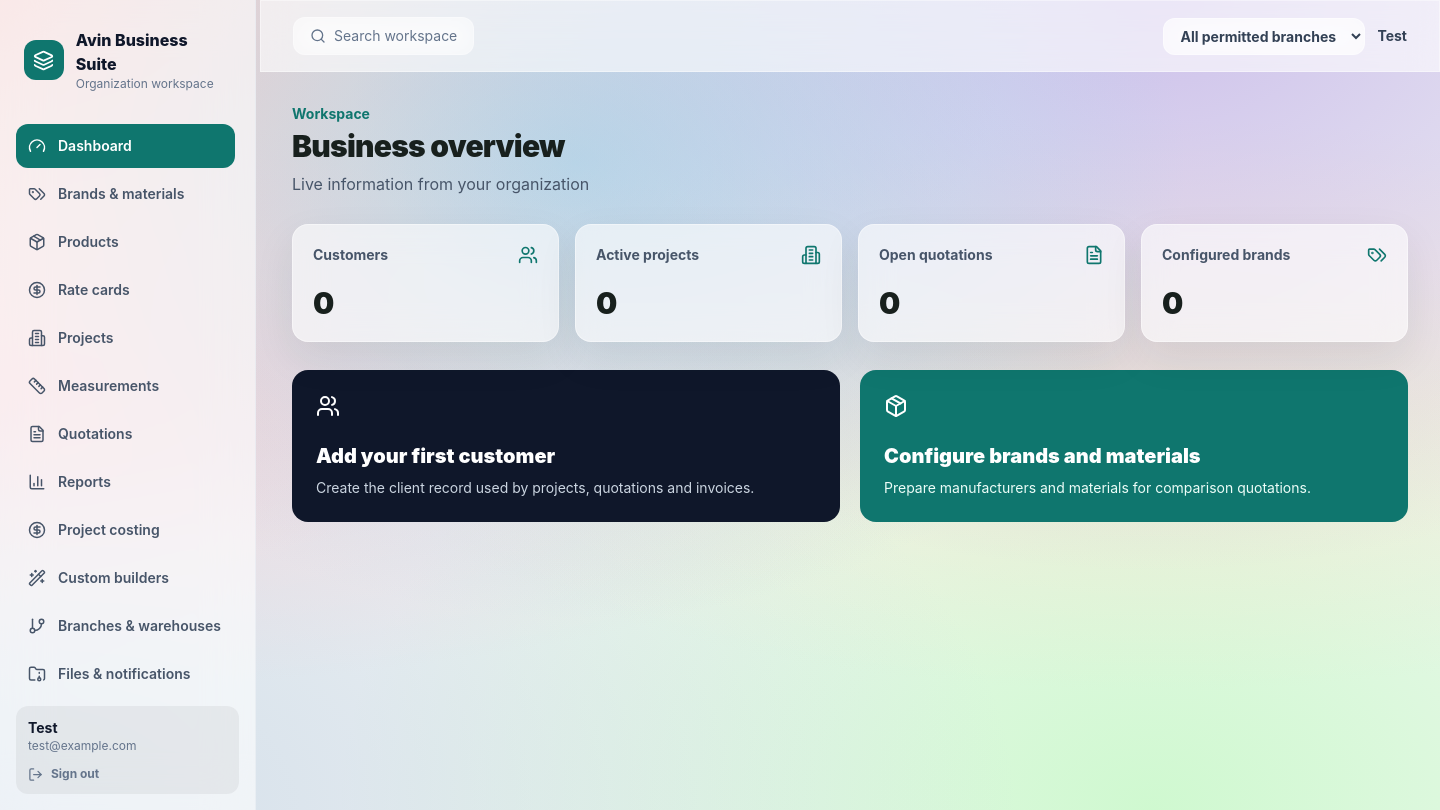
it: workspace save flows › adds a product, closes the form, refreshes the list and confirms success
The image size is (1440, 810).
Click the button "Products" at (126, 242), box [16,220,235,264]
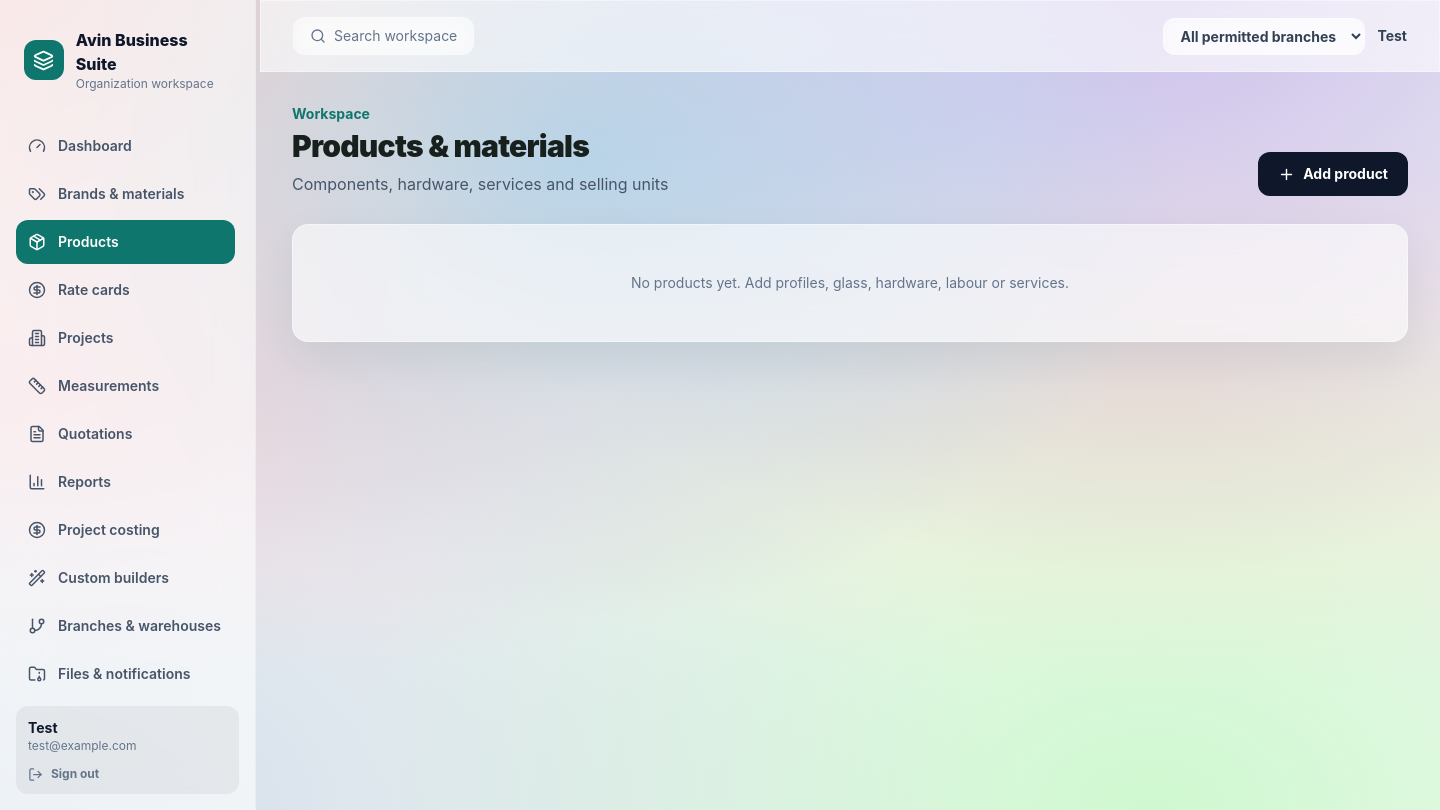
Expected: the button "Add product" is shown
Click the button "Add product" at (1333, 174), box [1258,152,1408,196]
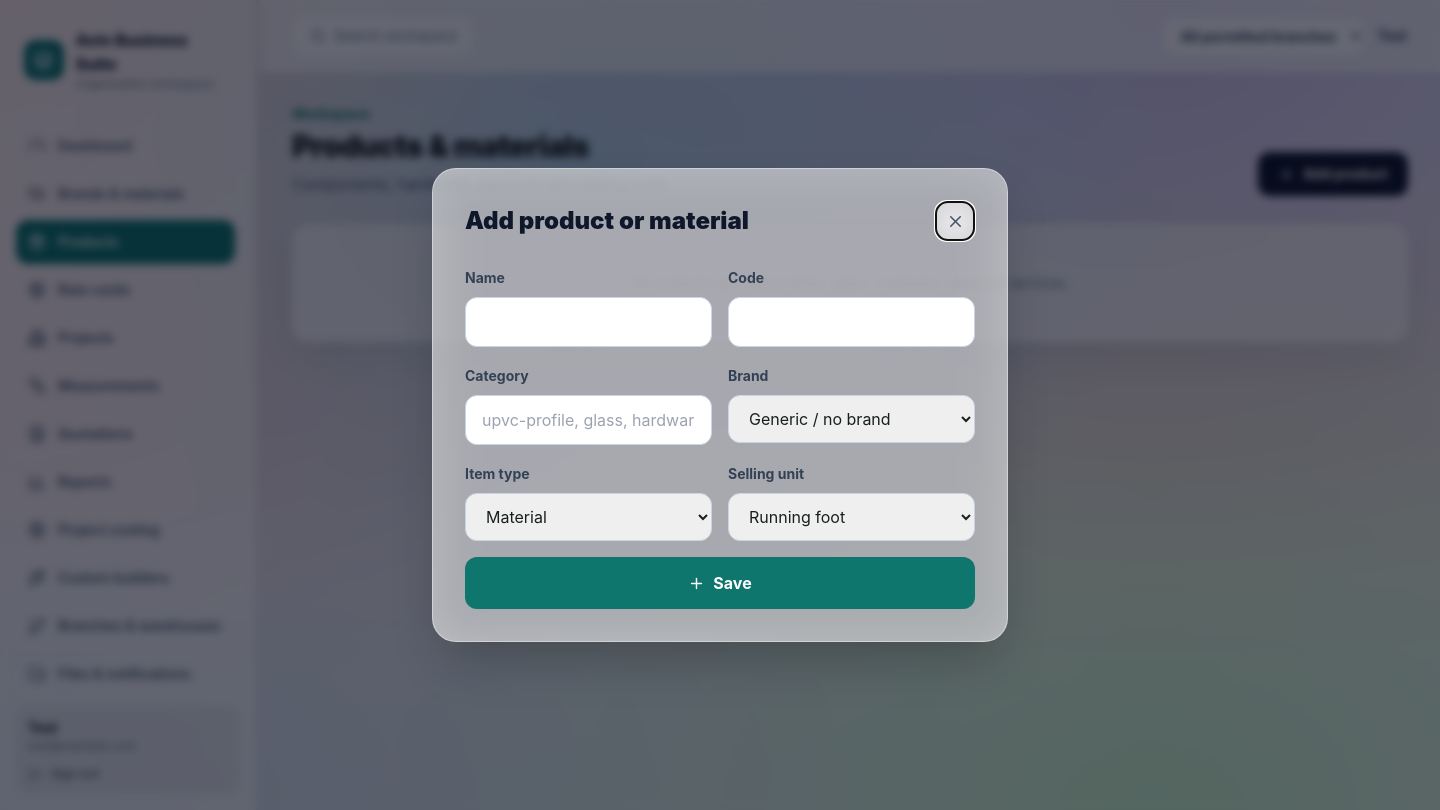
Type "Test material" into the field labelled "Name" at (588, 322), box [465,297,712,347]
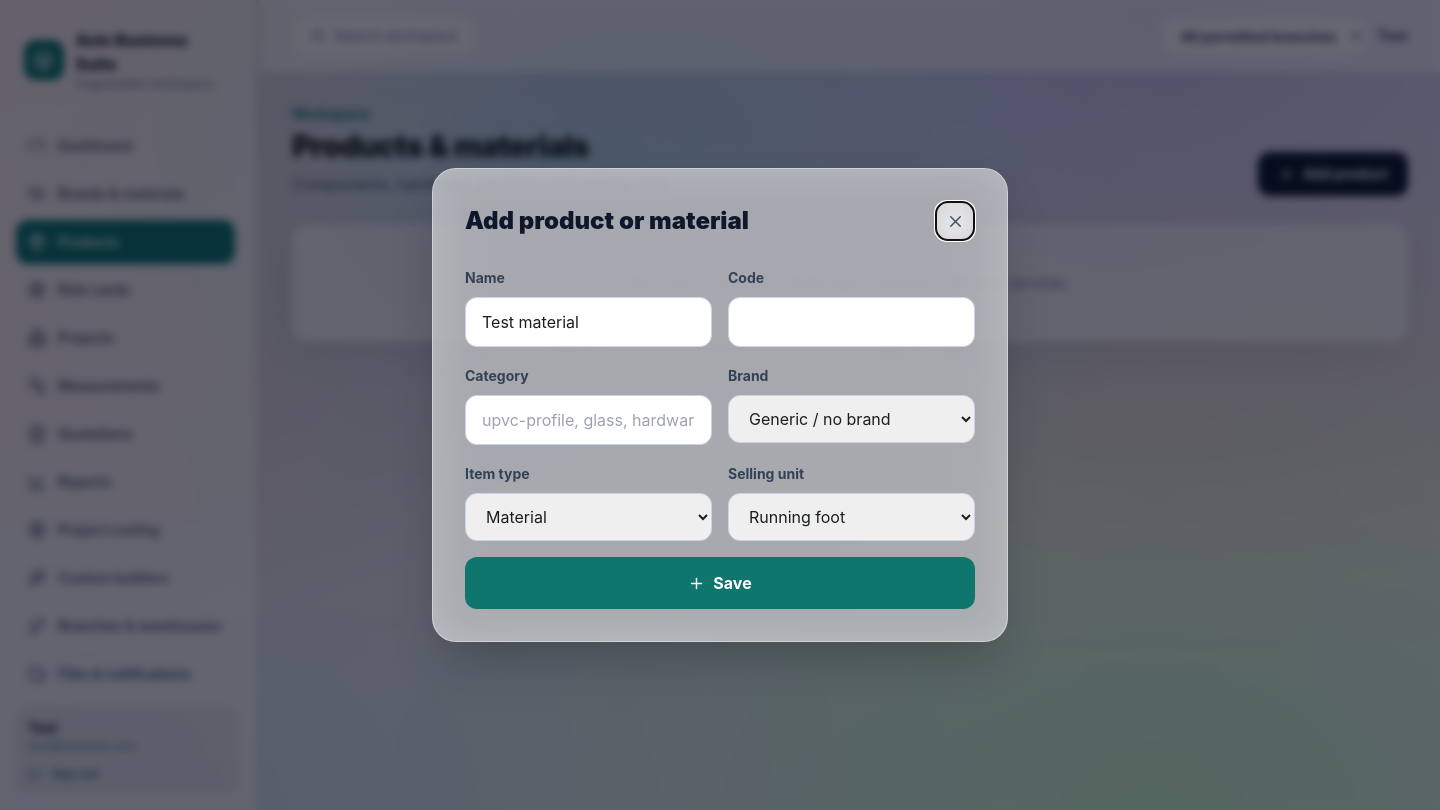
Type "TEST-01" into the field labelled "Code" at (852, 322), box [728,297,975,347]
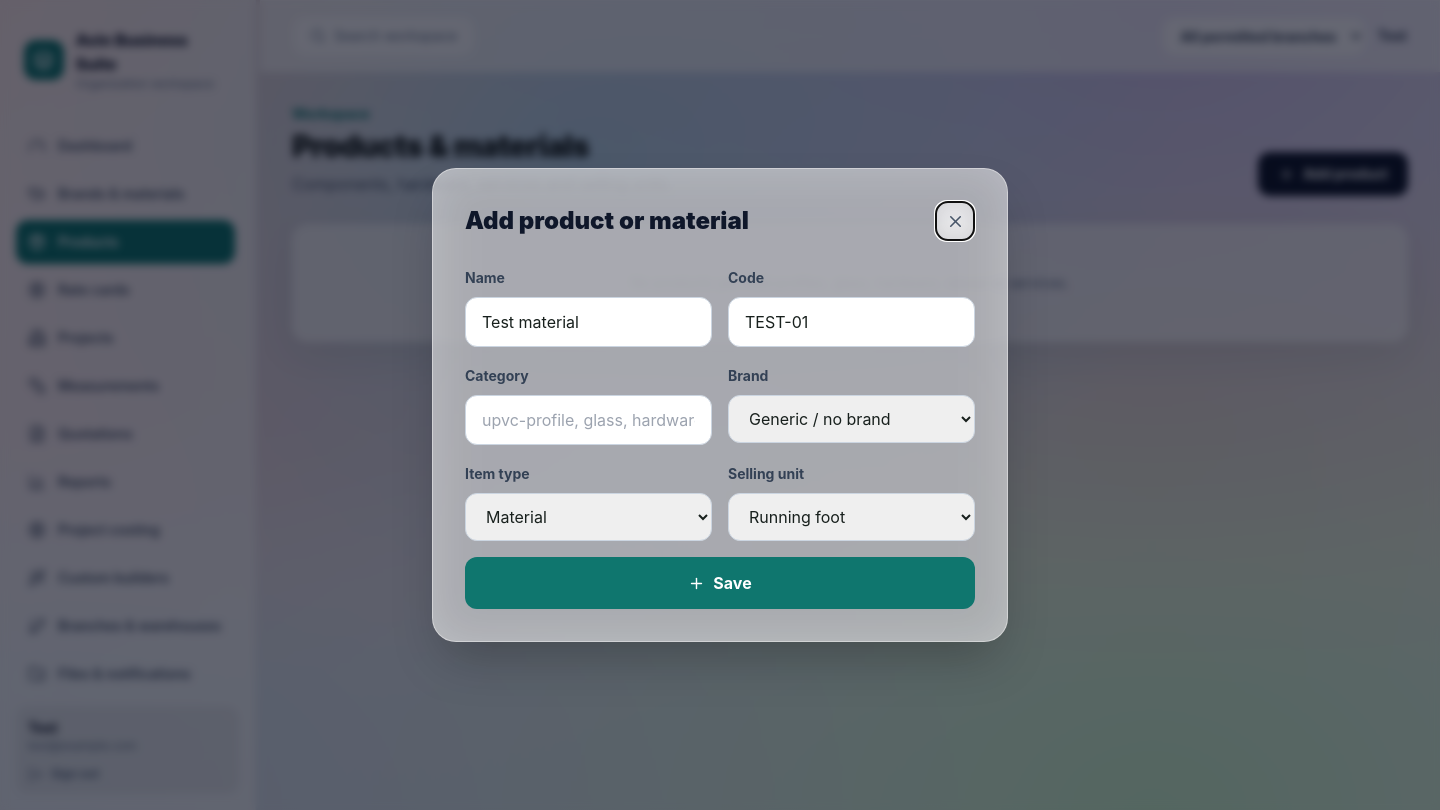
Type "hardware" into the field labelled "Category" at (588, 420), box [465,395,712,445]
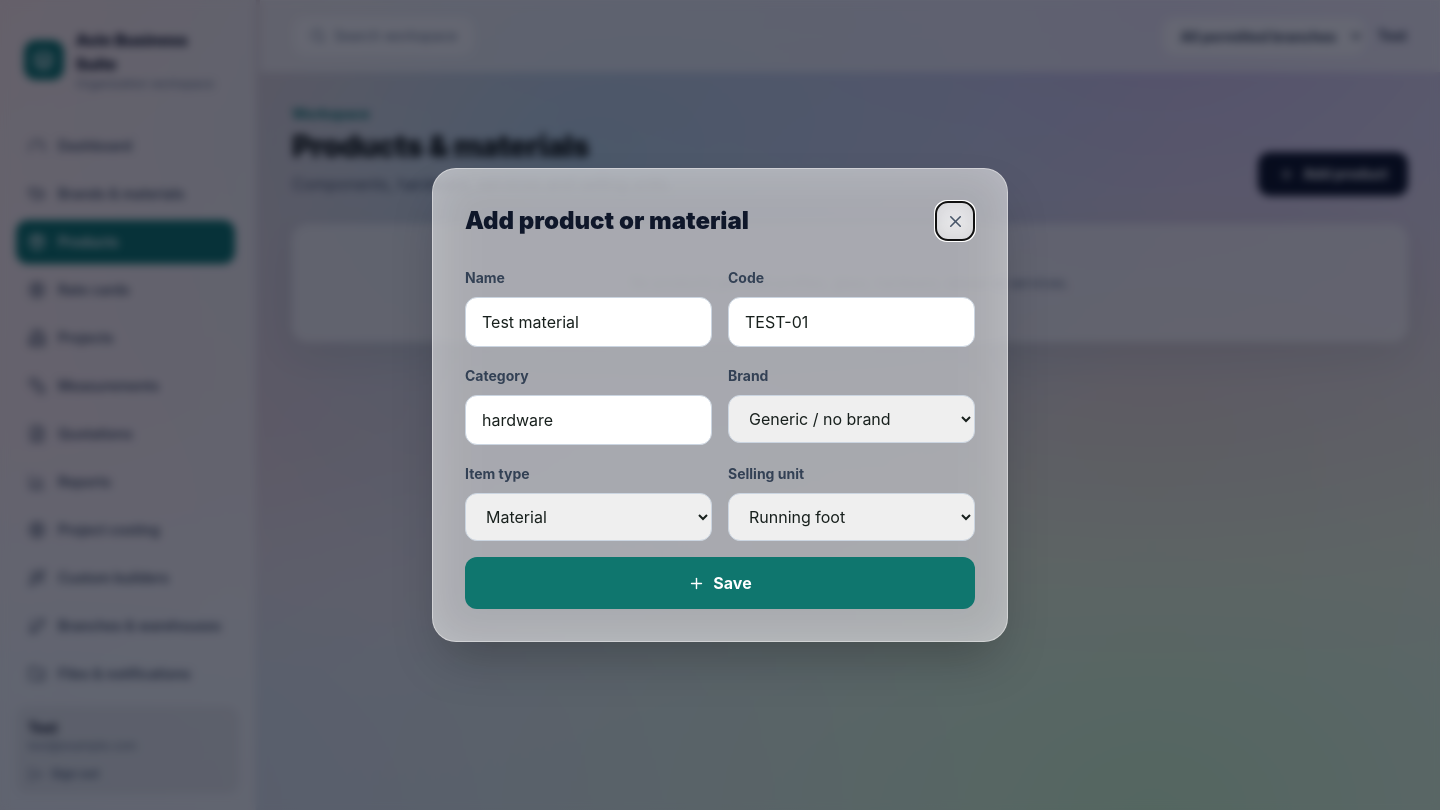
Submit the form, box [465,265,975,609]
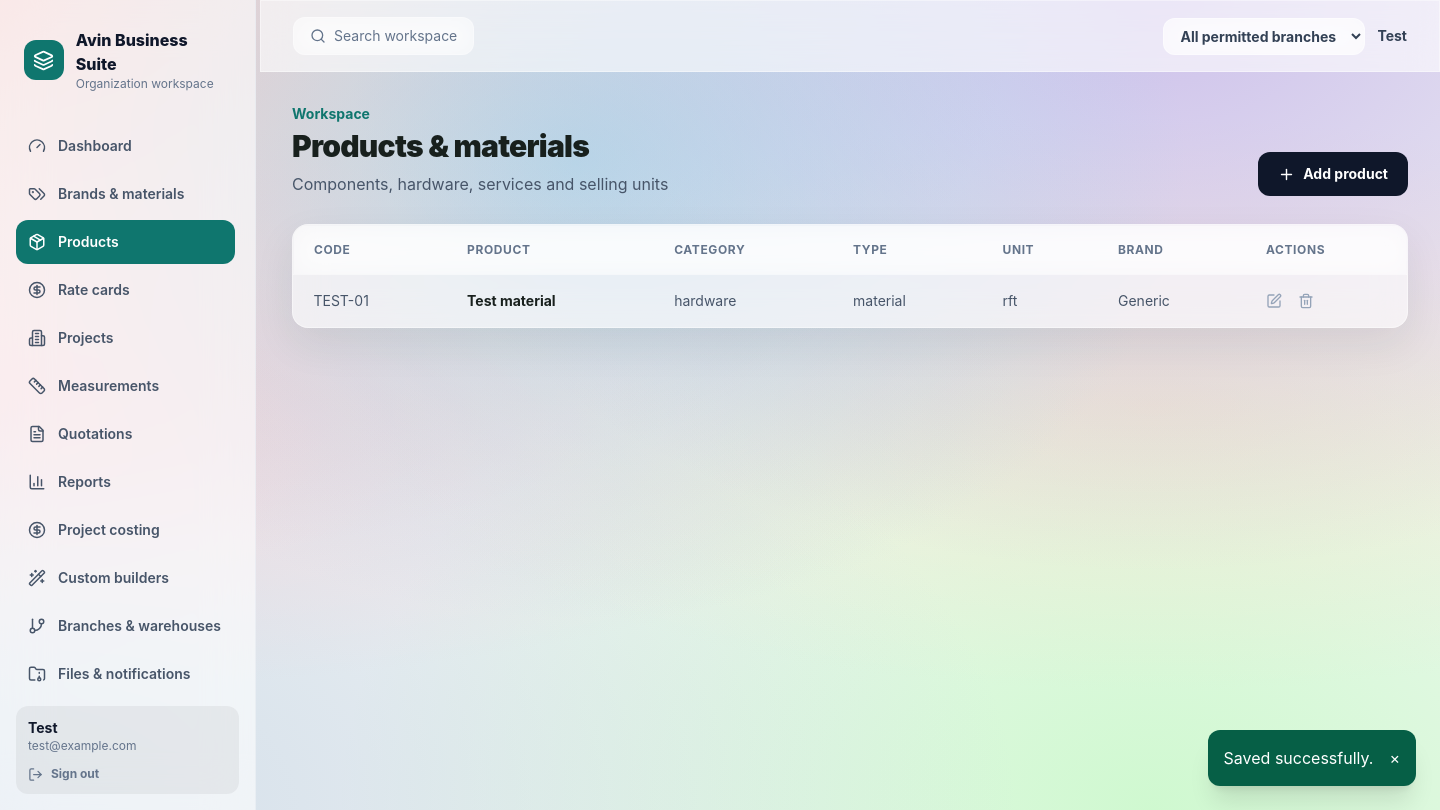
Expected: the dialog is gone
Expected: the text "Test material" is shown, [447,274,654,327]
Expected: the message "Saved successfully. ×" is shown, [1208,730,1416,786]
